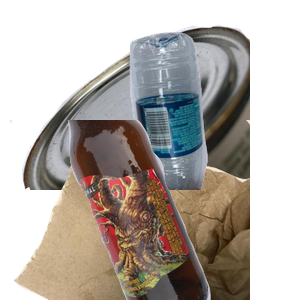glass: (65, 120, 300, 300)
metal: (19, 22, 259, 202)
plastic: (127, 29, 300, 209)
trash: (10, 120, 250, 300)
